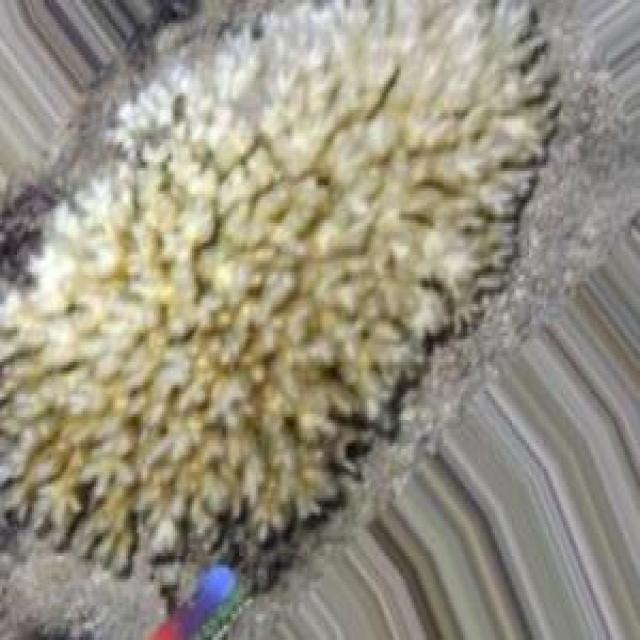Bleached: (1, 4, 561, 578)
